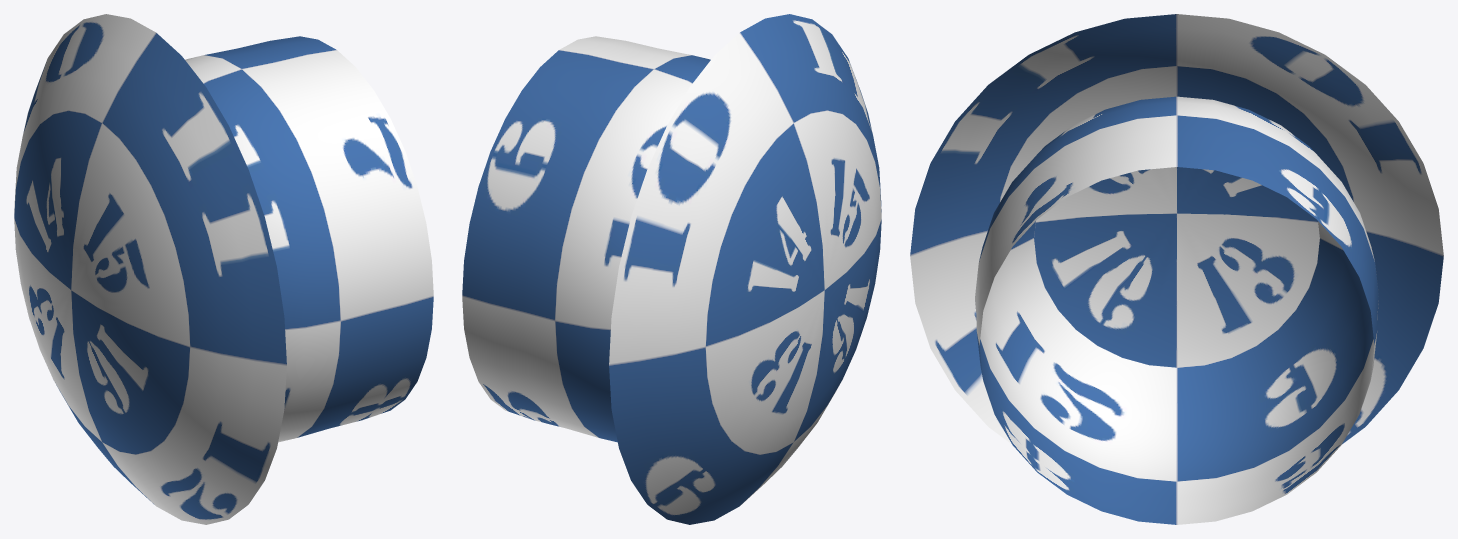
The model's file is RuiDad_Wind5.fbx.
The picture shows the model from 3 angles, left to right: view 1: azimuth 30°, elevation 25°; view 2: azimuth 150°, elevation 25°; view 3: azimuth 270°, elevation 25°; orthographic projection. The views are drawn at different scales.
Parts seen in each view (by area): view 1: SM_e_Plc_P1009_Wind002; view 2: SM_e_Plc_P1009_Wind002; view 3: SM_e_Plc_P1009_Wind002.
Boxes of the visible parts, left/top/right/bottom form: SM_e_Plc_P1009_Wind002: left=14, top=14, right=433, bottom=524; SM_e_Plc_P1009_Wind002: left=462, top=14, right=881, bottom=524; SM_e_Plc_P1009_Wind002: left=910, top=14, right=1443, bottom=524.
Size of the model in its own units: 124 by 212 by 212.
